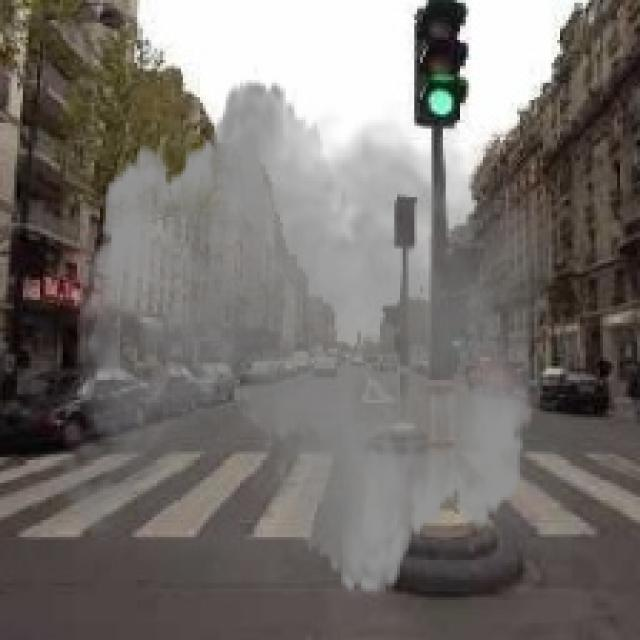smoke: (40, 63, 571, 611)
